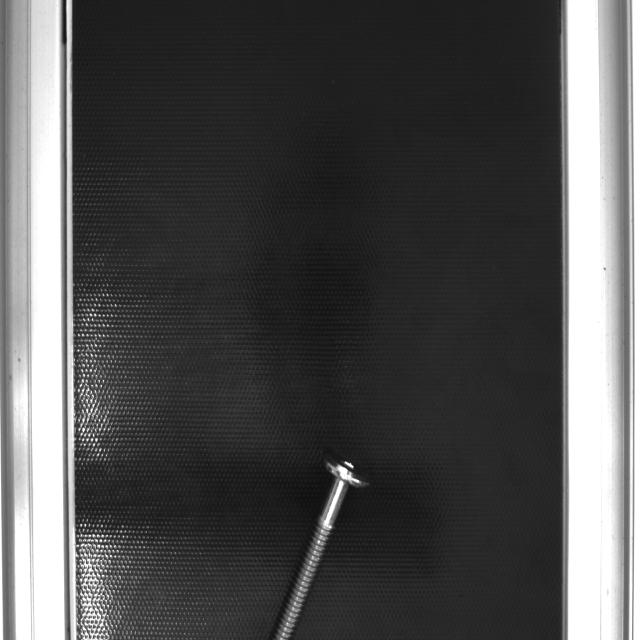bulon: (270, 478, 349, 639)
